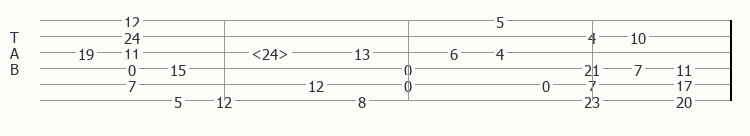0: (128, 61, 140, 76), (404, 61, 416, 76), (404, 77, 416, 92), (542, 77, 554, 92)
10: (630, 29, 650, 44)
11: (124, 45, 144, 60), (676, 61, 696, 76)
12: (124, 13, 144, 28), (216, 93, 236, 108), (308, 77, 328, 92)
13: (354, 45, 374, 60)
15: (170, 61, 190, 76)
17: (676, 77, 696, 92)
19: (78, 45, 98, 60)
20: (676, 93, 696, 108)
21: (584, 61, 604, 76)
23: (584, 93, 604, 108)
24: (124, 29, 144, 44)
4: (496, 45, 508, 60), (588, 29, 600, 44)
5: (174, 93, 186, 108), (496, 13, 508, 28)
6: (450, 45, 462, 60)
7: (128, 77, 140, 92), (588, 77, 600, 92), (634, 61, 646, 76)
8: (358, 93, 370, 108)
harmonic: (251, 45, 293, 60)
